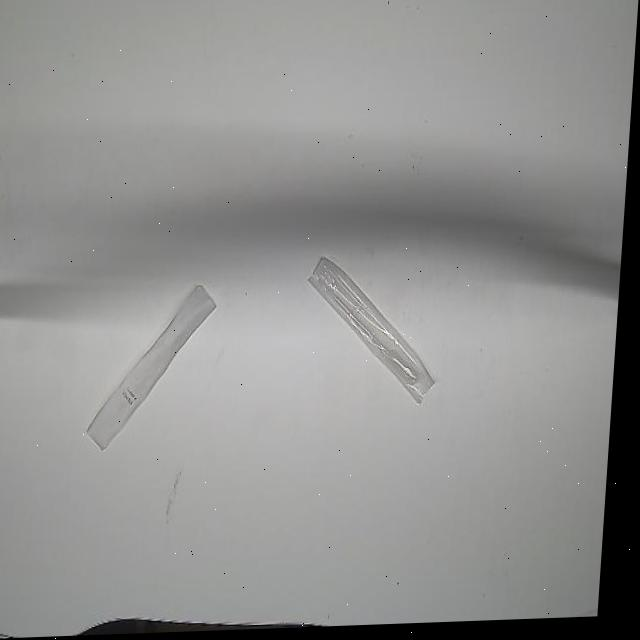Disposable Pasteur Pipette - Sealed: (304, 252, 452, 418), (91, 280, 225, 454)
